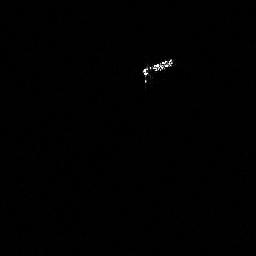ship: (143, 57, 173, 77)
